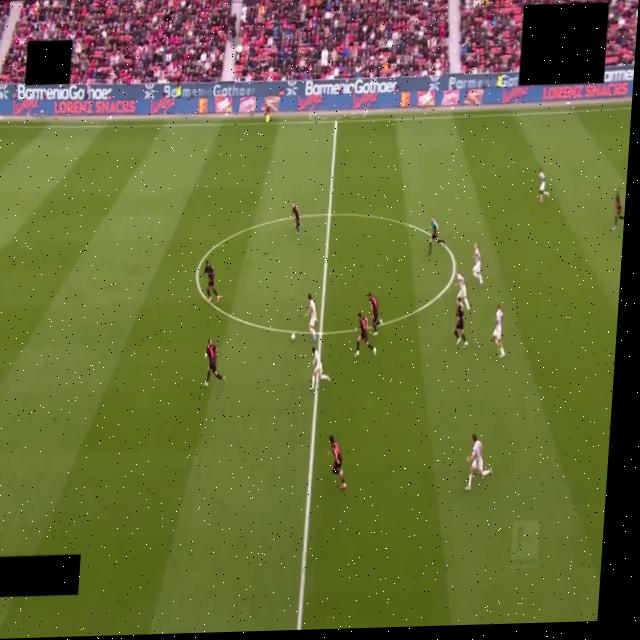ball: (291, 334, 295, 341)
player: (465, 434, 492, 490), (204, 339, 225, 386), (329, 436, 346, 490), (355, 313, 376, 356), (310, 347, 330, 390), (203, 260, 220, 304), (454, 298, 467, 347), (493, 305, 505, 357), (368, 292, 382, 334), (305, 294, 317, 341), (456, 273, 470, 310), (472, 243, 482, 284), (613, 191, 623, 229), (539, 168, 549, 202), (292, 202, 301, 234)
referee: (429, 216, 444, 254)
